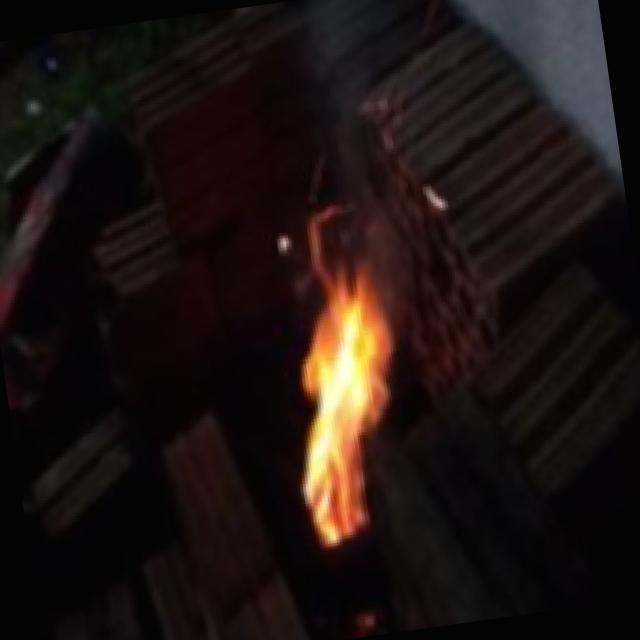fire: (232, 192, 457, 570)
